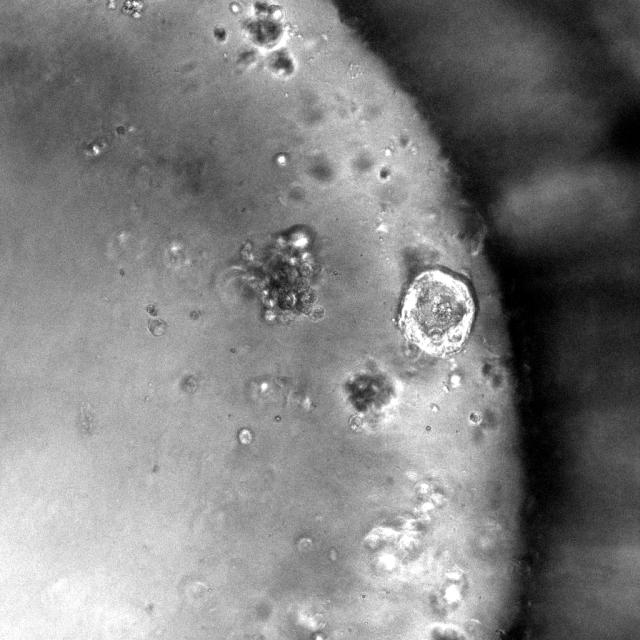organoid: (362, 477, 446, 574), (236, 225, 319, 321), (398, 266, 477, 357), (238, 0, 294, 76), (344, 362, 397, 430), (122, 0, 143, 18), (148, 317, 167, 336), (237, 427, 253, 445), (214, 26, 226, 41), (469, 411, 482, 423), (146, 304, 157, 315), (116, 125, 127, 135), (106, 0, 116, 9)
